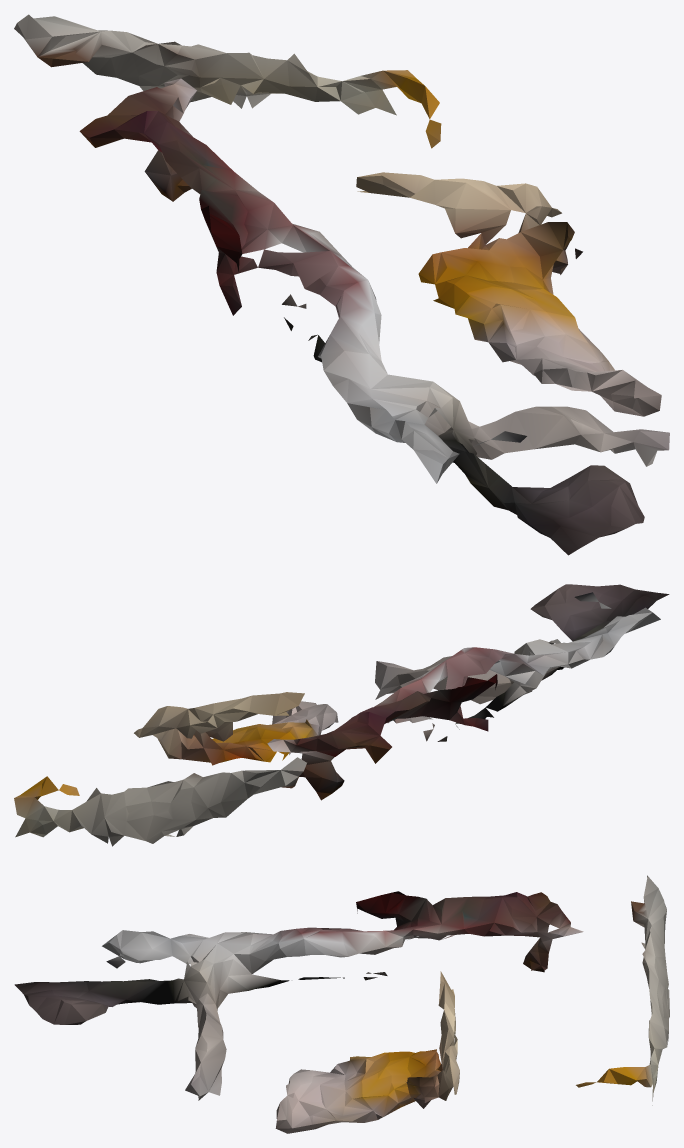
The model's file is rear_run__upper_snack_door.scan.glb.
3 renders of one model, top to bottom at view 1: azimuth 30°, elevation 25°; view 2: azimuth 150°, elevation 25°; view 3: azimuth 270°, elevation 25°, orthographic. The views are drawn at different scales.
Visible parts, largest first — view 1: geometry_0; view 2: geometry_0; view 3: geometry_0.
Boxes of the visible parts, bbox=[...] form: geometry_0: bbox=[14, 14, 669, 555]; geometry_0: bbox=[14, 584, 669, 846]; geometry_0: bbox=[14, 875, 669, 1133].
Size of the model in its own units: 0.3679 by 0.2221 by 0.8078.
